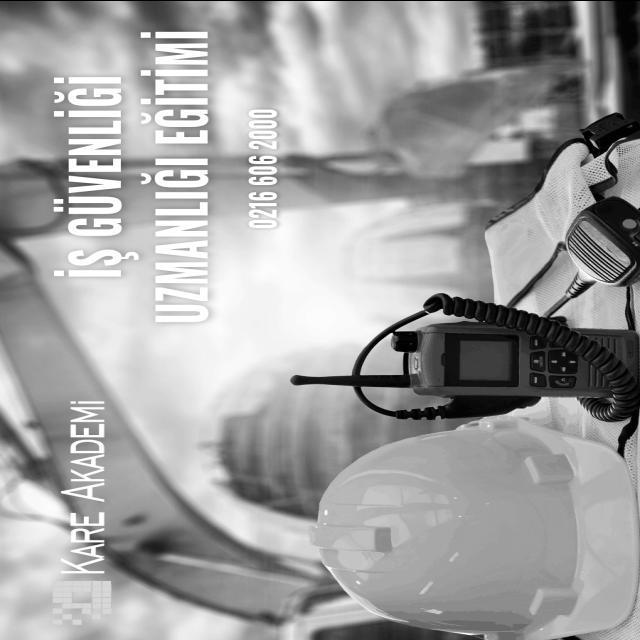safety_helmet: (311, 414, 640, 640)
